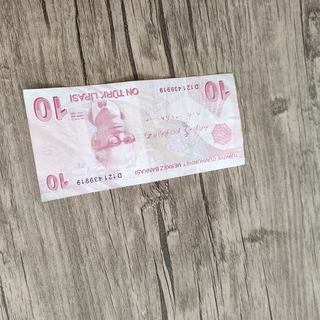10TLBack: (21, 71, 246, 202)
